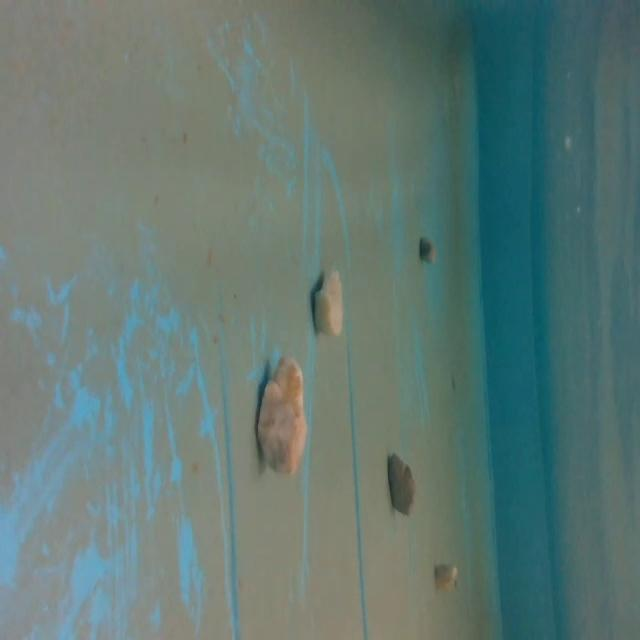rock: (249, 353, 314, 483), (309, 264, 347, 346), (382, 449, 419, 522), (433, 559, 458, 597), (415, 238, 438, 268)
